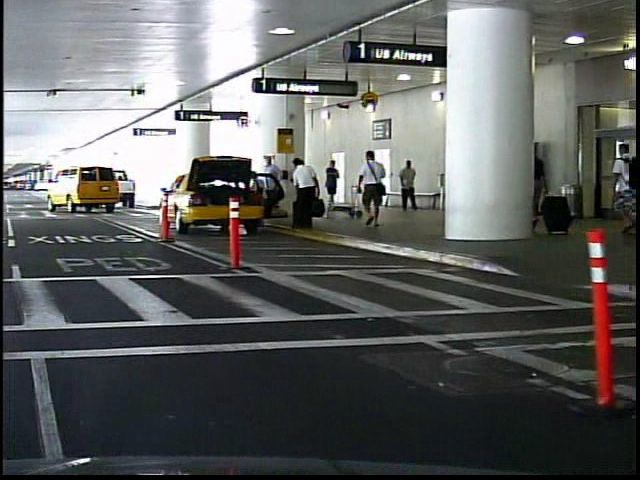person: (484, 137, 524, 236), (601, 141, 637, 235), (350, 146, 387, 231), (395, 153, 416, 215)
